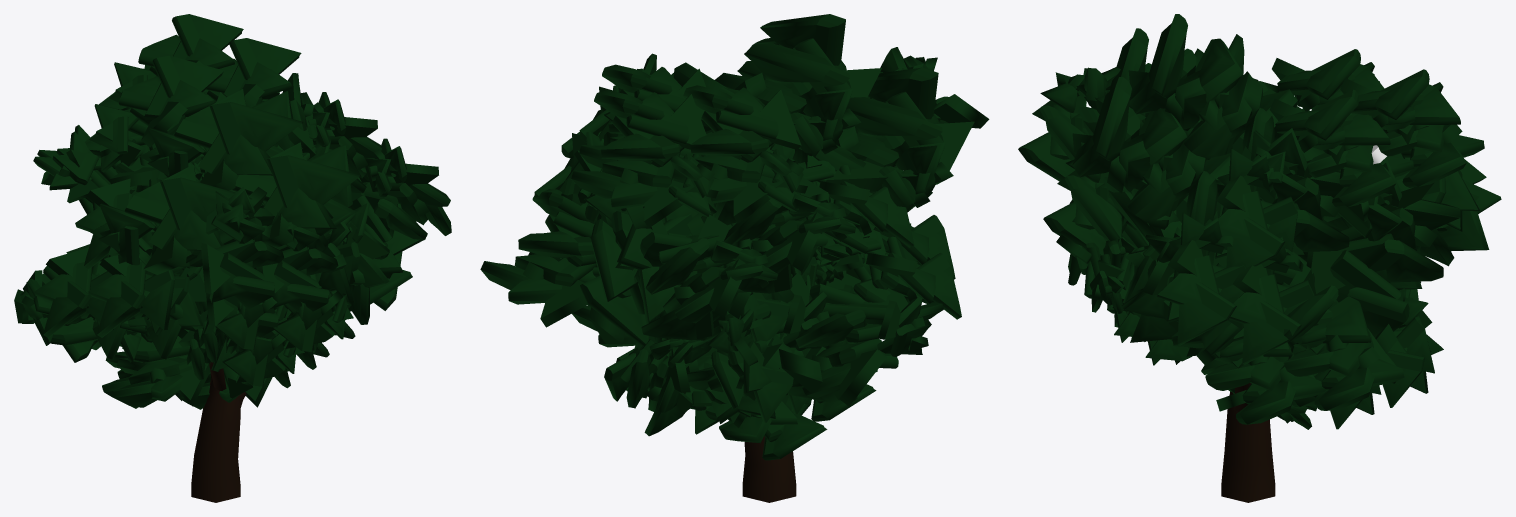
Rendered from Tree.fbx.
3 renders of one model, left to right at view 1: azimuth 30°, elevation 25°; view 2: azimuth 150°, elevation 25°; view 3: azimuth 270°, elevation 25°, orthographic. The views are drawn at different scales.
Parts seen in each view (by area): view 1: Object009, Cylinder059, Cylinder063, Cylinder064, Object006, Cylinder062, Cylinder061, Branch001; view 2: Cylinder059, Cylinder063, Object009, Cylinder061, Cylinder064, Branch001, Object006, Object007; view 3: Cylinder059, Cylinder064, Object009, Object006, Cylinder062, Cylinder061, Branch001.
Part boxes in pixels (bbox=[...]): Object009: bbox=[90, 89, 360, 274]; Cylinder059: bbox=[33, 14, 317, 214]; Cylinder063: bbox=[14, 155, 206, 362]; Cylinder064: bbox=[302, 92, 451, 324]; Object006: bbox=[200, 186, 346, 337]; Cylinder062: bbox=[178, 285, 355, 388]; Cylinder061: bbox=[66, 244, 272, 409]; Branch001: bbox=[191, 373, 240, 502]; Cylinder059: bbox=[571, 64, 856, 345]; Cylinder063: bbox=[687, 143, 961, 406]; Object009: bbox=[673, 14, 974, 212]; Cylinder061: bbox=[604, 262, 876, 460]; Cylinder064: bbox=[480, 53, 704, 349]; Branch001: bbox=[742, 436, 796, 502]; Object006: bbox=[849, 47, 989, 197]; Object007: bbox=[805, 246, 843, 290]; Cylinder059: bbox=[1209, 49, 1501, 337]; Cylinder064: bbox=[1121, 148, 1404, 424]; Object009: bbox=[1072, 14, 1303, 229]; Object006: bbox=[1018, 67, 1181, 267]; Cylinder062: bbox=[1056, 200, 1192, 365]; Cylinder061: bbox=[1216, 281, 1443, 429]; Branch001: bbox=[1221, 391, 1275, 502].
Size of the model in its own units: 157 by 163 by 157.
